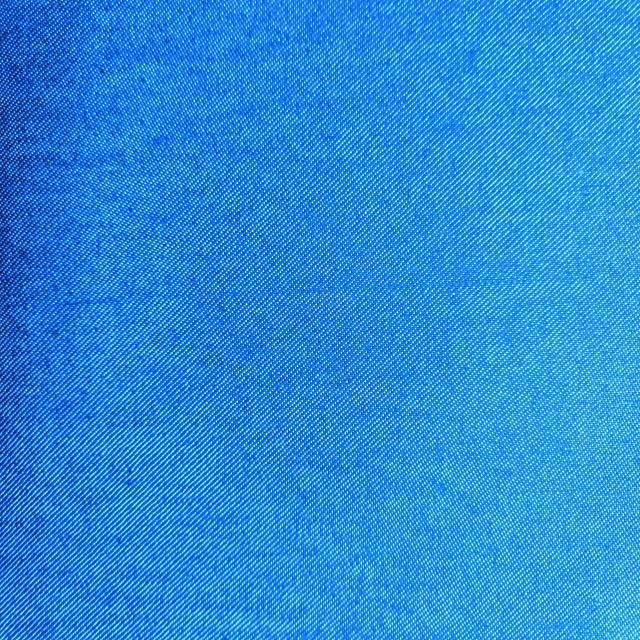Line: (61, 275, 544, 310)
